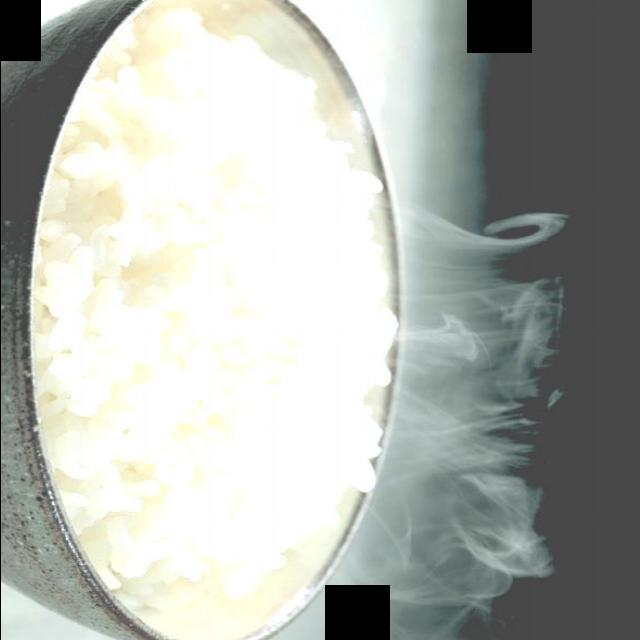rice: (38, 9, 396, 606)
